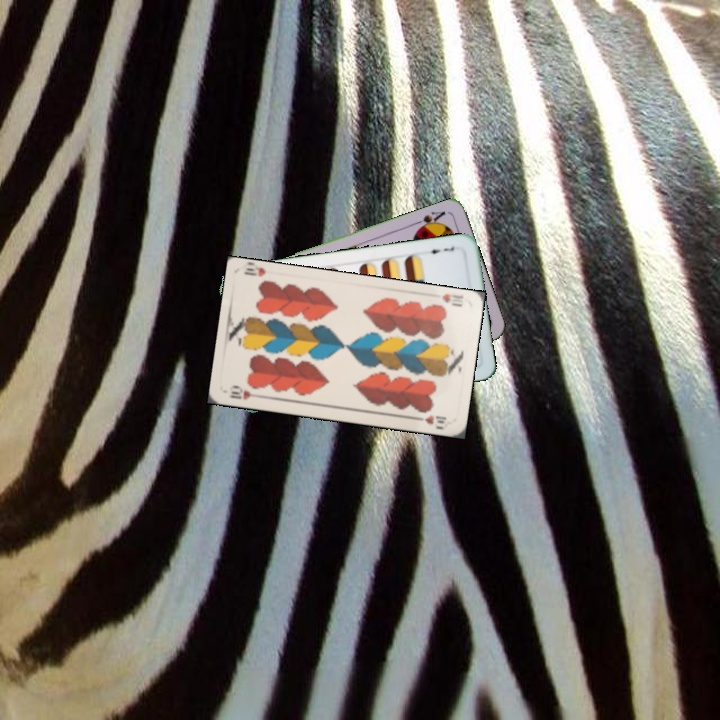E7: (422, 243, 457, 257)
H10: (226, 382, 264, 402), (438, 290, 466, 309)
SA: (411, 207, 448, 233)
